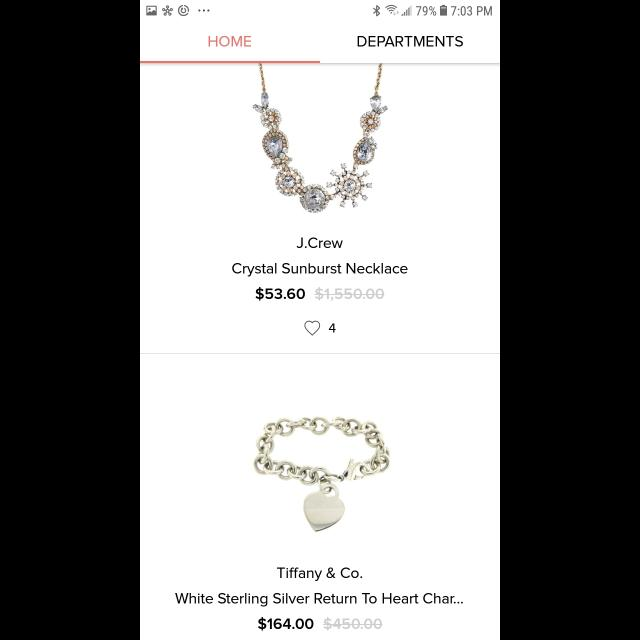icon: (304, 320, 320, 336)
image: (252, 63, 388, 213), (254, 416, 391, 532)
text: (176, 593, 464, 607), (232, 263, 408, 277), (256, 287, 384, 301), (258, 617, 382, 631), (357, 36, 463, 48), (278, 567, 362, 581), (208, 36, 252, 48), (296, 238, 344, 248), (328, 323, 336, 332)
uppertaskbar: (140, 1, 500, 17)
